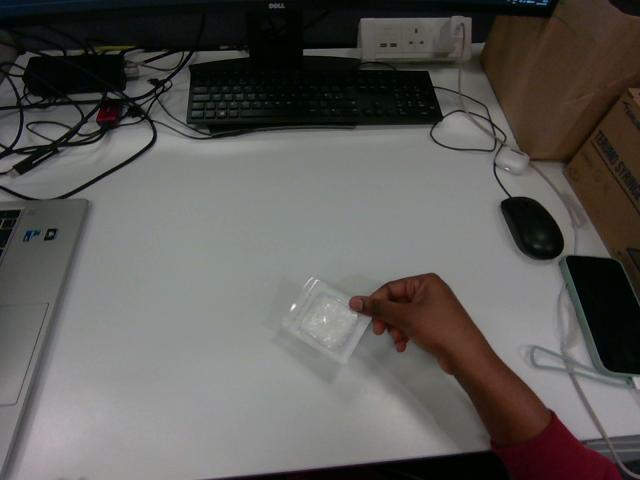gauze: (283, 278, 370, 363)
